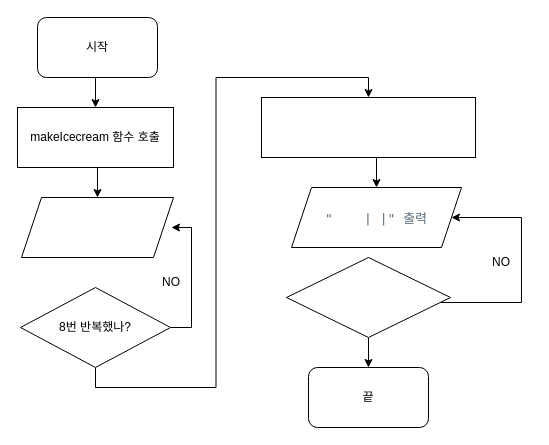
Image size: 549x445. Some labels were removed from this diagram. The box of each missing label's shape, as (x1, y1, x2, y2) in pixels:
*********** 출력: (20, 196, 174, 258)
4번 반복했나?: (286, 256, 450, 338)
makeIcecreamBar 함수 호출: (260, 96, 476, 158)
